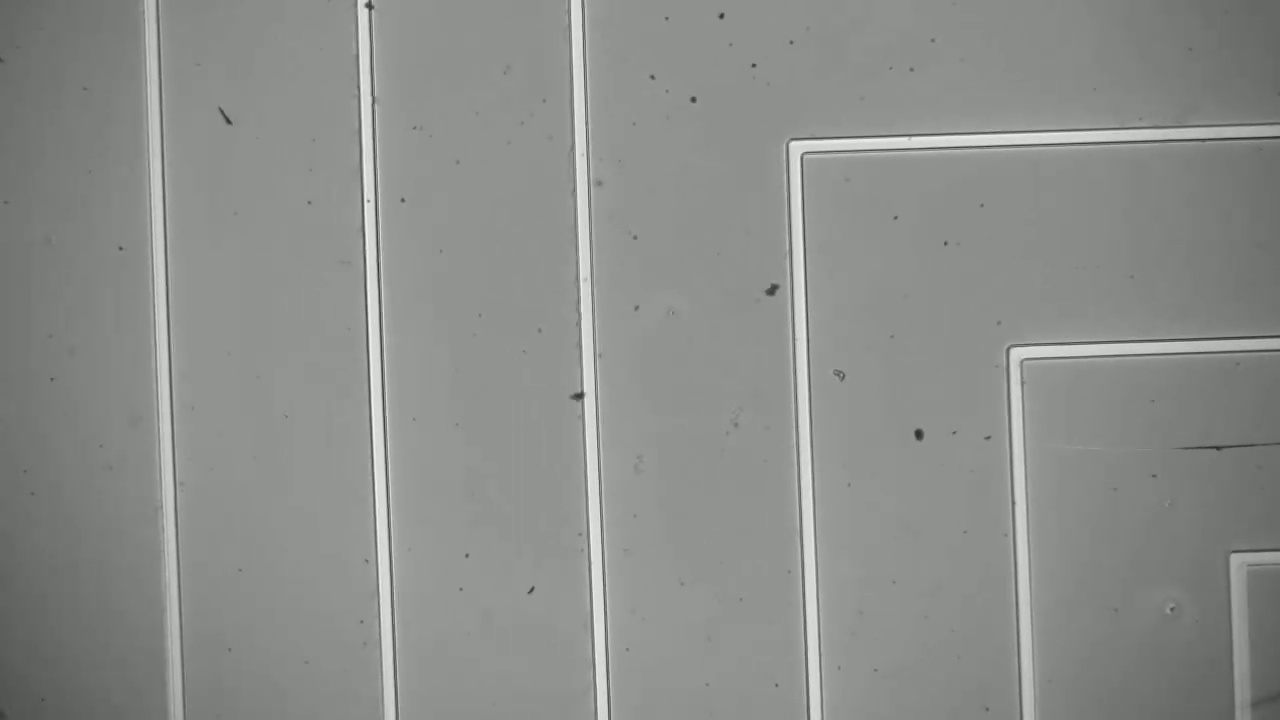scratch: (1157, 407, 1279, 470), (563, 378, 611, 416)
